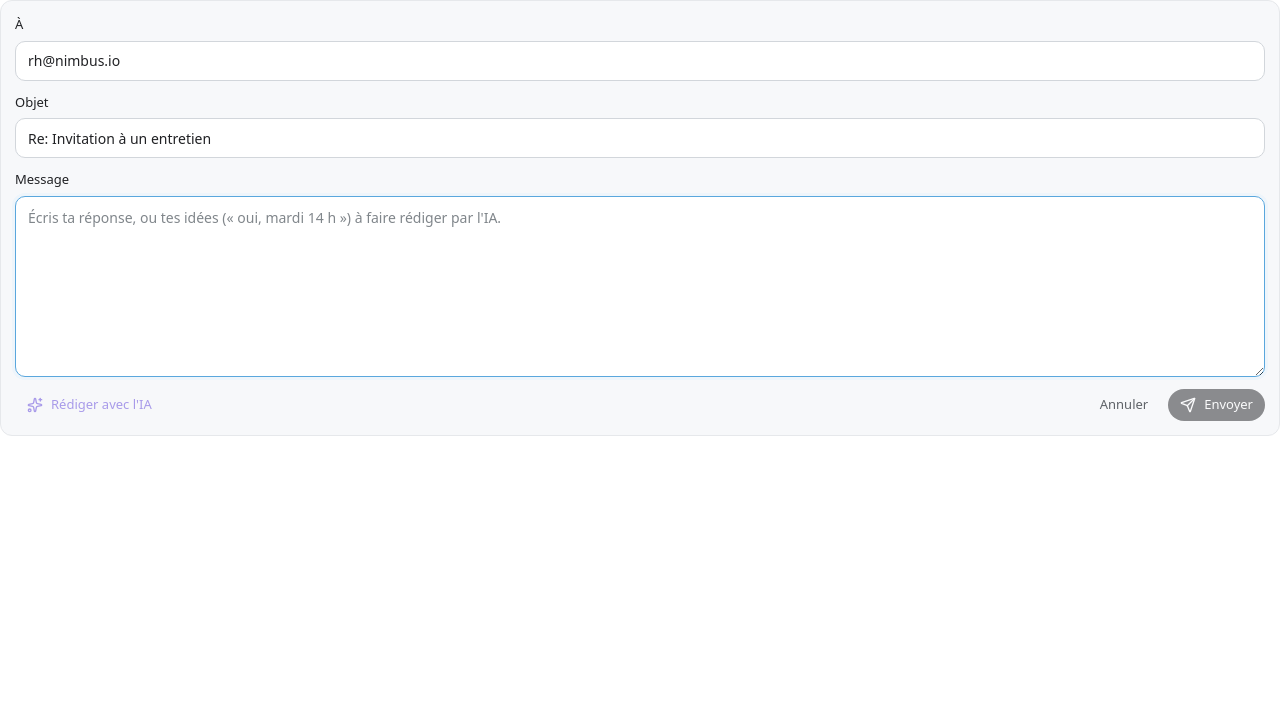
Test: ReplyComposer › blocks sending while a passage is left to fill
Expected: the button "Rédiger avec l'IA" is disabled, [15, 389, 164, 421]
Type "oui" into the text box labelled "Message" at (640, 286), box [15, 196, 1265, 377]
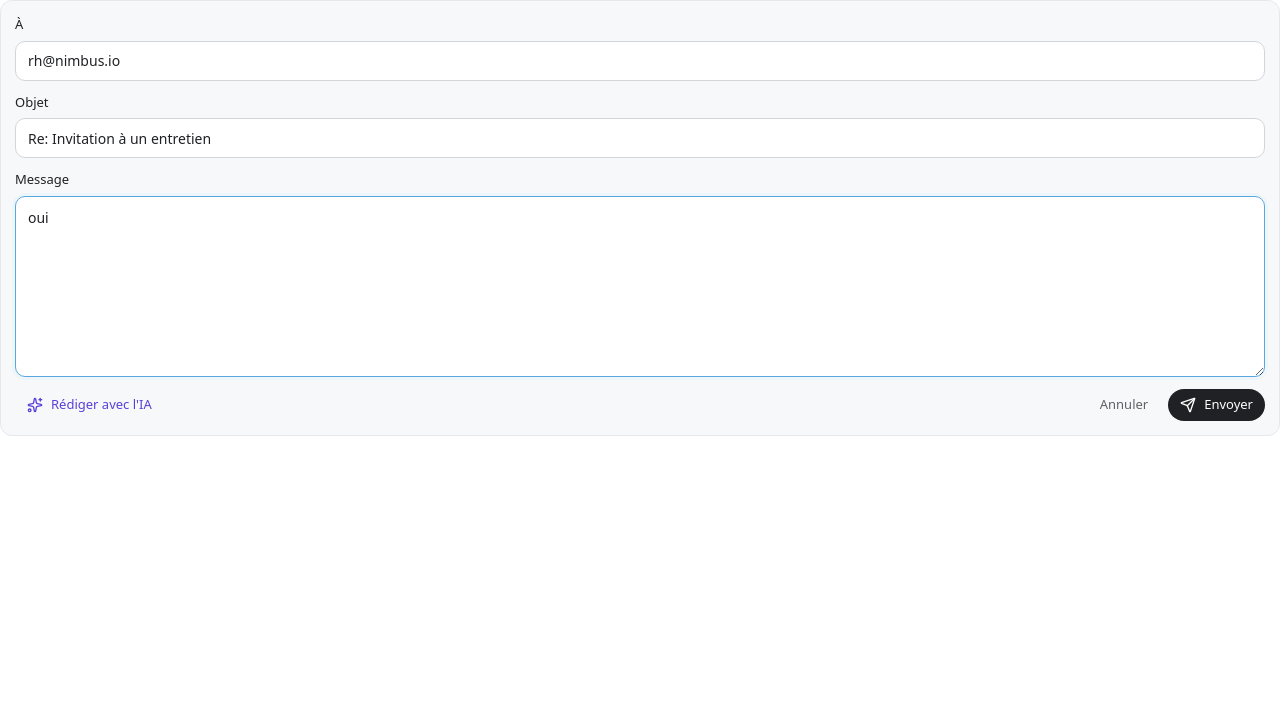
Click the button "Rédiger avec l'IA" at (89, 405), box [15, 389, 164, 421]
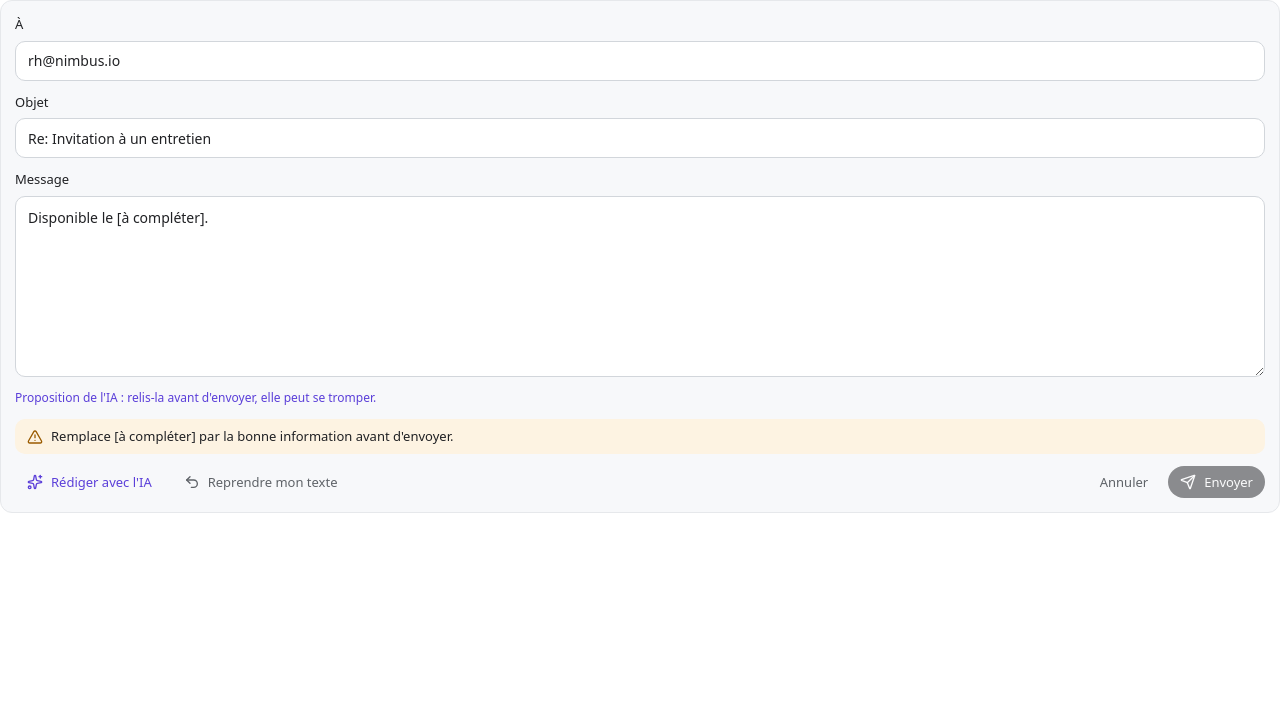
Expected: the text "Remplace [à compléter] par la bonne information avant d'envoyer." is shown, [15, 419, 1265, 454]
Expected: the button "Envoyer" is disabled, [1168, 466, 1265, 498]
Replace the text in the text box labelled "Message" with "Disponible mardi." at (640, 286), box [15, 196, 1265, 377]
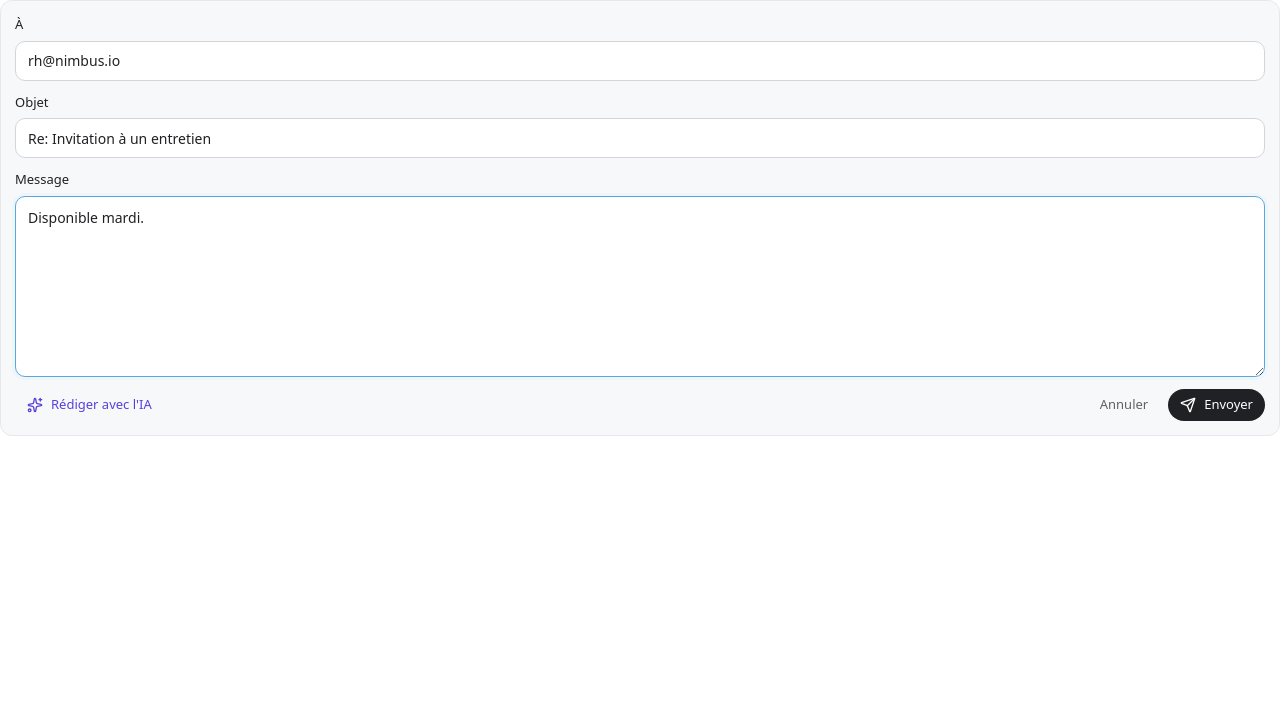
Expected: the button "Envoyer" is enabled, [1168, 389, 1265, 421]
